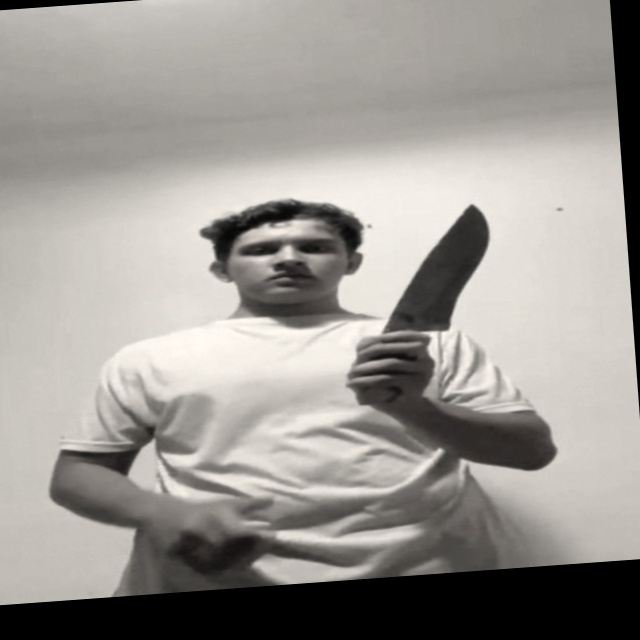Sharp-Object: (374, 201, 503, 343)
